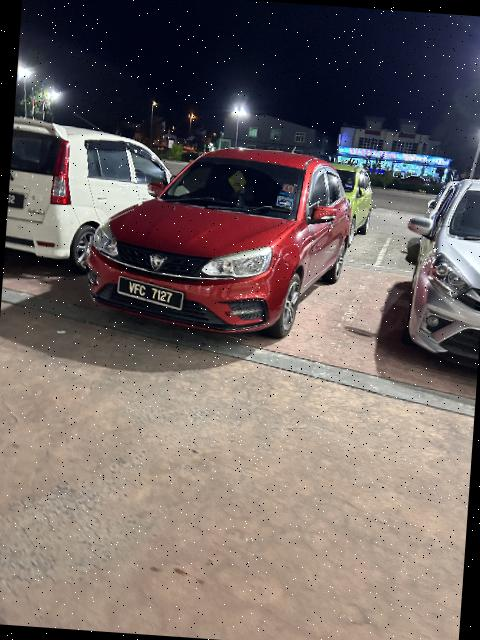License_Plate: (116, 277, 186, 313)
car: (75, 130, 363, 346), (5, 108, 185, 274)
